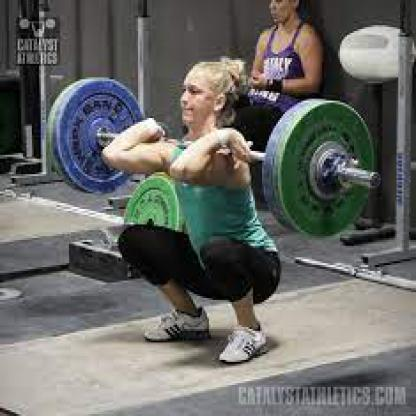Barbell: (259, 95, 392, 247)
